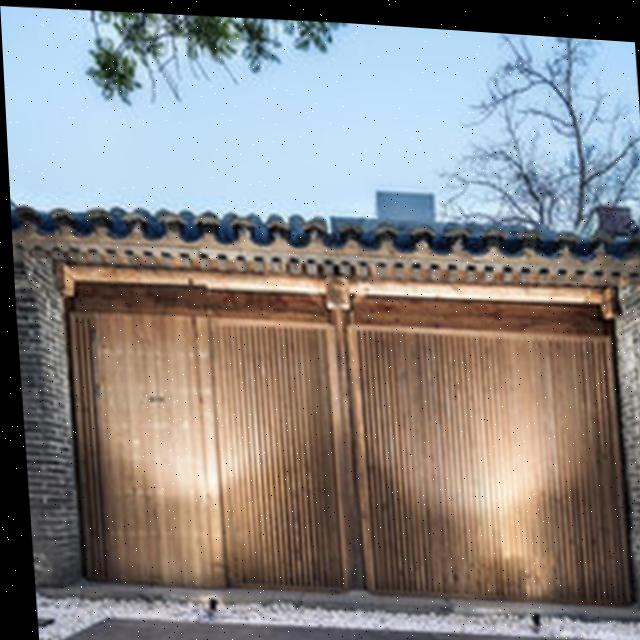building: (13, 189, 640, 629)
